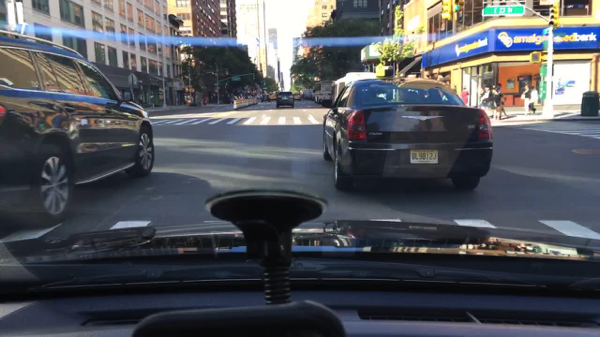car: (0, 30, 154, 228), (323, 77, 492, 190), (275, 91, 294, 108), (302, 88, 311, 98), (261, 94, 270, 104), (269, 91, 278, 100), (228, 95, 238, 103), (306, 89, 313, 100), (198, 97, 206, 106), (184, 96, 192, 104), (293, 93, 299, 101), (258, 94, 264, 100), (252, 94, 258, 100), (246, 94, 252, 100), (238, 96, 244, 102), (299, 94, 304, 100)
person: (492, 84, 505, 119), (478, 84, 491, 118), (479, 87, 493, 110), (520, 84, 529, 117), (528, 86, 538, 114), (497, 97, 507, 121), (460, 87, 468, 110), (452, 85, 457, 95)
traffic light: (439, 1, 452, 20), (529, 52, 539, 63), (453, 1, 462, 11), (541, 52, 548, 61), (262, 80, 266, 87), (224, 70, 228, 76), (252, 74, 255, 81)
traffic sign: (481, 5, 523, 15), (376, 62, 384, 76), (128, 73, 136, 85), (231, 77, 241, 81), (189, 88, 195, 93), (542, 30, 549, 34), (213, 87, 221, 90), (186, 85, 193, 88), (213, 83, 219, 86)
truck: (330, 73, 374, 109), (312, 80, 333, 106)
